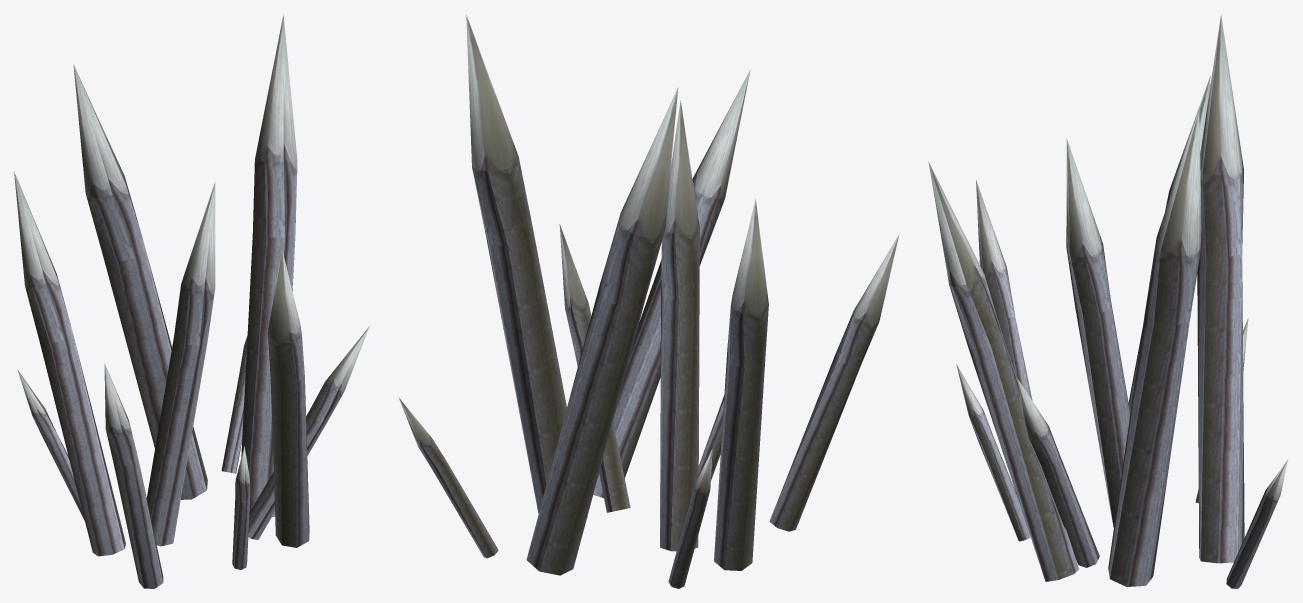
Rendered from spikes.fbx.
3 views of the same model, side by side, from view 1: azimuth 30°, elevation 25°; view 2: azimuth 150°, elevation 25°; view 3: azimuth 270°, elevation 25° (orthographic). The views are drawn at different scales.
Parts seen in each view (by area): view 1: polySurface391; view 2: polySurface391; view 3: polySurface391.
Part boxes in pixels (x1,y1,x2,y2): polySurface391: (14,14,369,588); polySurface391: (398,15,899,588); polySurface391: (928,14,1288,588).
Size of the model in its own units: 140 by 207 by 135.
